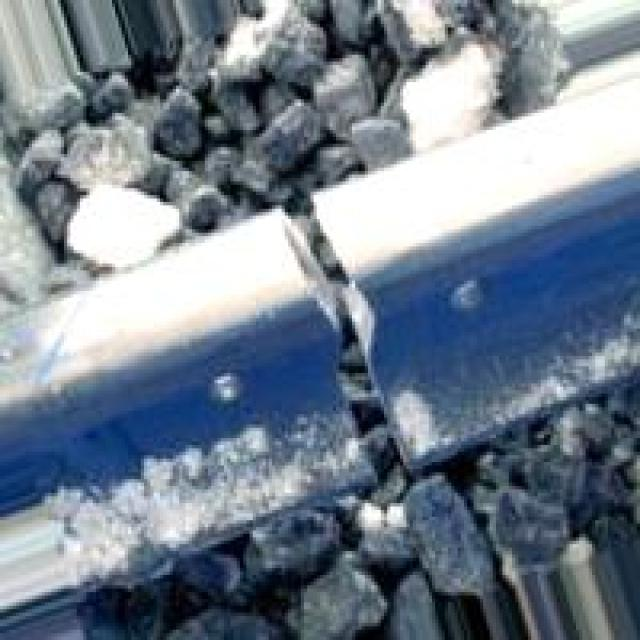crack: (221, 175, 479, 526)
